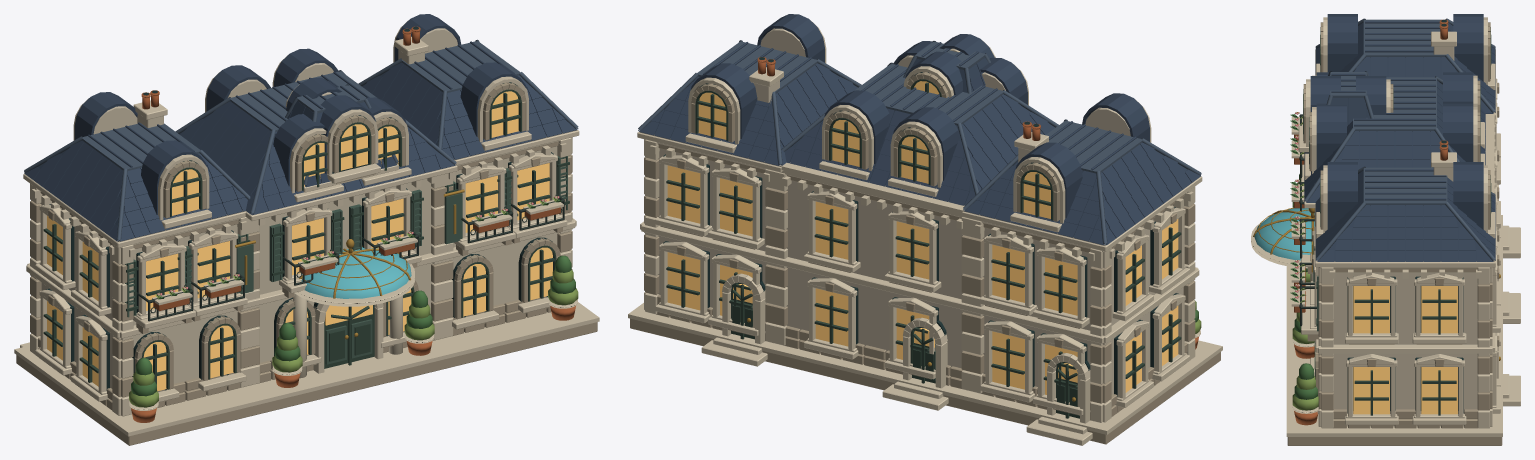
3 renders of one model, left to right at view 1: azimuth 30°, elevation 25°; view 2: azimuth 150°, elevation 25°; view 3: azimuth 270°, elevation 25°, orthographic. The views are drawn at different scales.
Visible parts, largest first — view 1: classic_skyscraper_1_geometry; view 2: classic_skyscraper_1_geometry; view 3: classic_skyscraper_1_geometry.
Boxes of the visible parts, box(x1,y1,x2,y2) form: classic_skyscraper_1_geometry: box(14, 14, 599, 445); classic_skyscraper_1_geometry: box(628, 14, 1222, 445); classic_skyscraper_1_geometry: box(1251, 14, 1520, 445).
Size of the model in its own units: 1.72 by 0.9543 by 0.9008.
